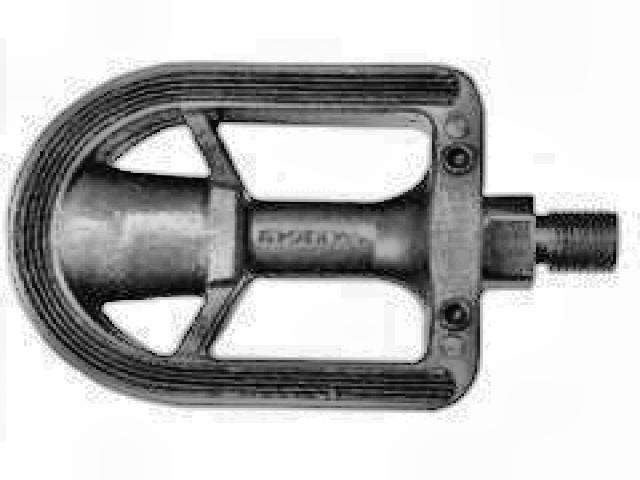pedal: (6, 57, 620, 418)
